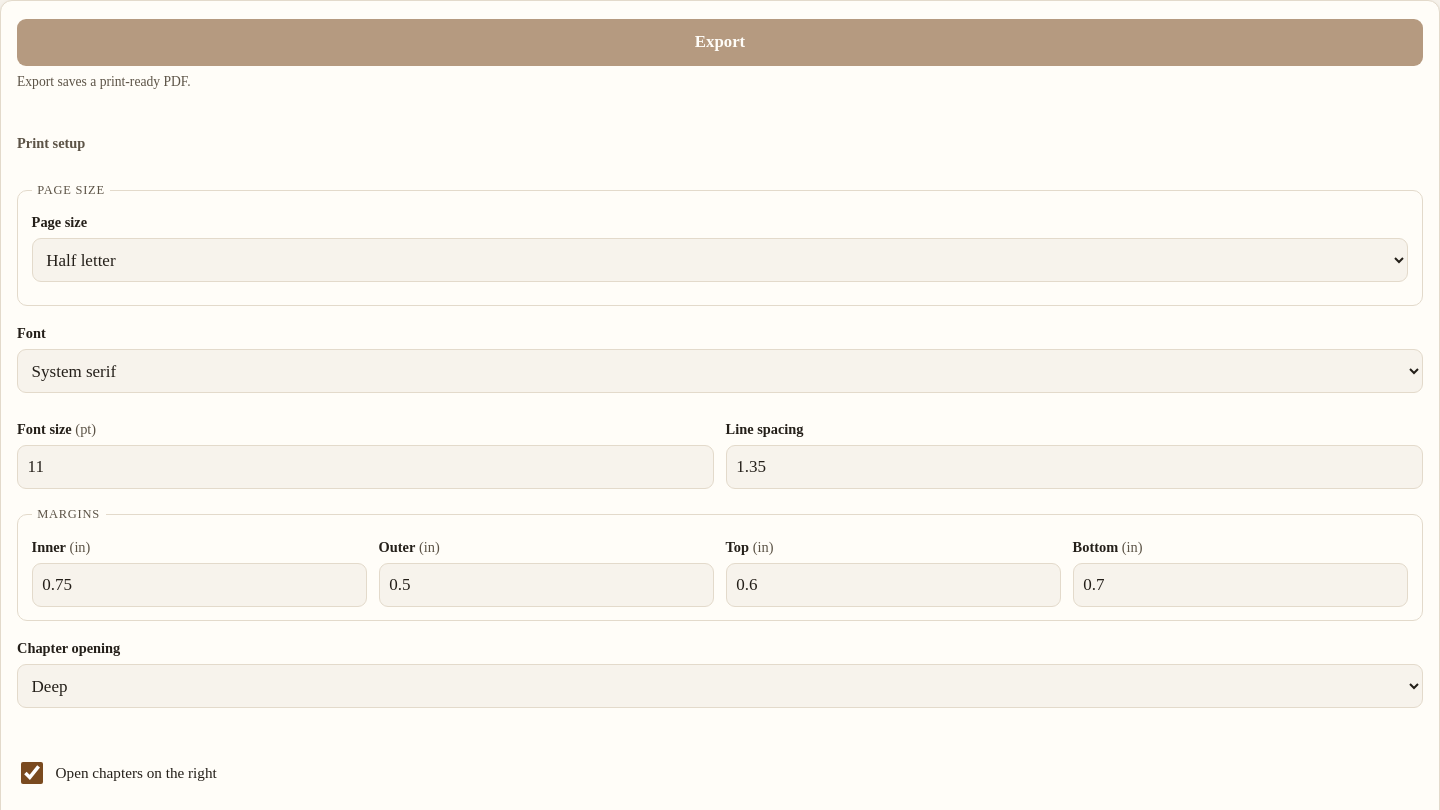
ControlPanel dials emit the right patch › reveals custom width, height, and units on Custom size
Check: the field labelled "Width" is not shown
Select "Custom size" in the dropdown labelled "Page size" at coordinates (720, 260), box [32,238,1408,282]
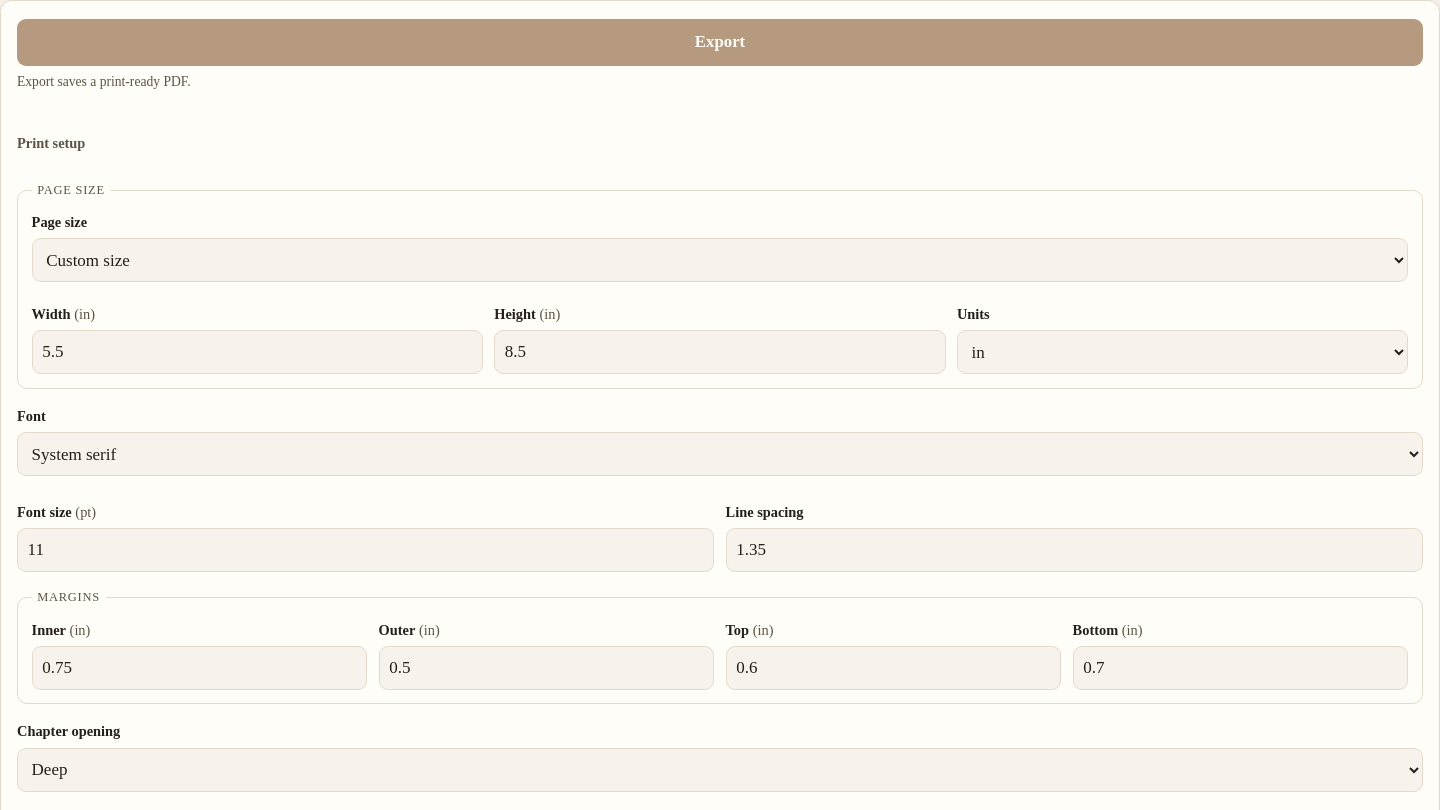
Check: the number field labelled "Width (in)" is shown, box [32,330,483,374]
Check: the number field labelled "Height (in)" is shown, box [494,330,946,374]
Check: the dropdown labelled "Units" is shown, box [957,330,1408,374]
